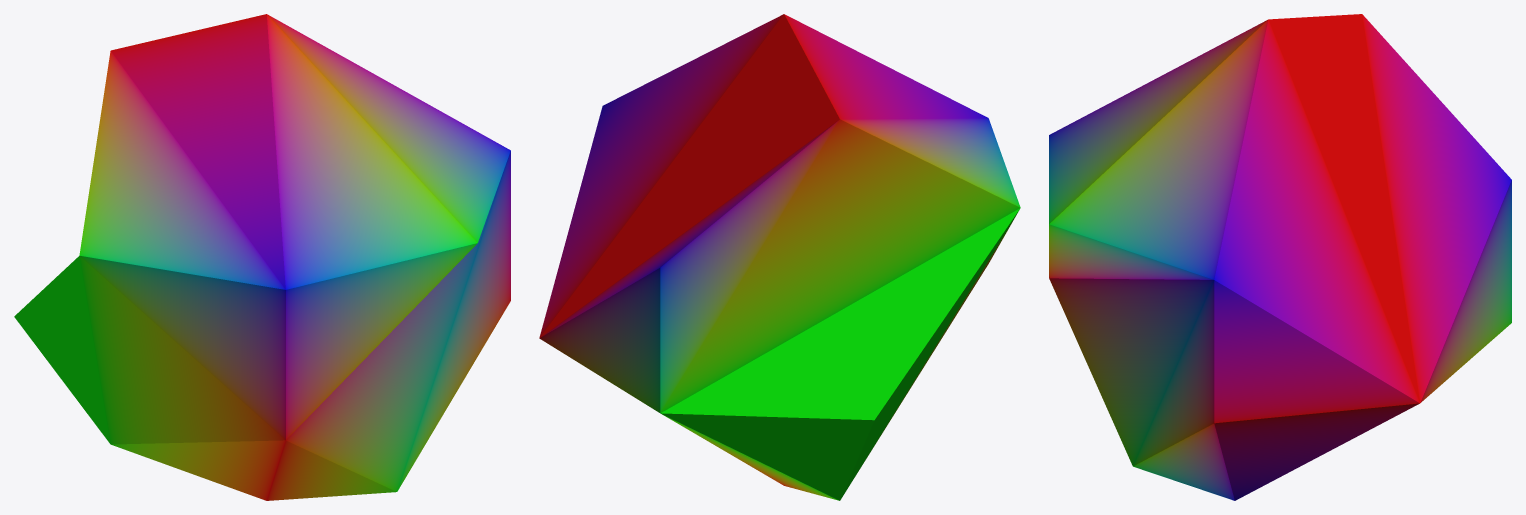
File: all_6.obj
3 renders of one model, left to right at view 1: azimuth 30°, elevation 25°; view 2: azimuth 150°, elevation 25°; view 3: azimuth 270°, elevation 25°, orthographic. The views are drawn at different scales.
Bounding box in the file's own units: 1.85 × 2 × 1.81.
